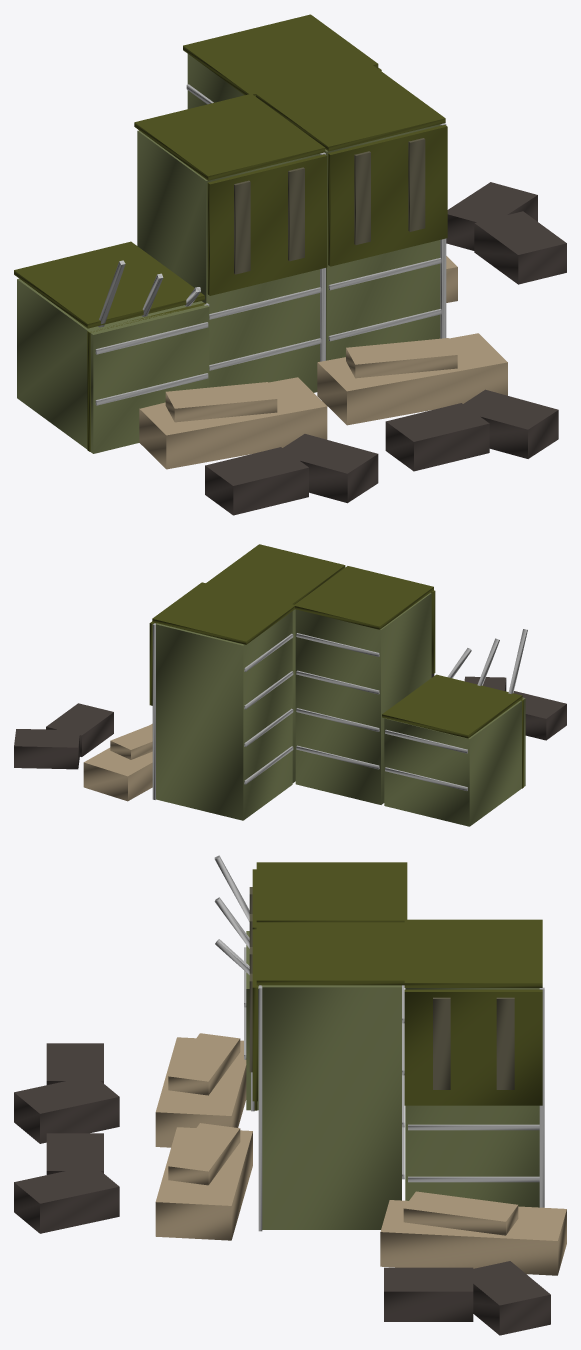
Rendered from SM_HescoRemateEspejo_v4_Red_e1_Danado_LOD0.fbx.
The picture shows the model from 3 angles, top to bottom: view 1: azimuth 30°, elevation 25°; view 2: azimuth 150°, elevation 25°; view 3: azimuth 270°, elevation 25°; orthographic projection. The views are drawn at different scales.
Visible parts, largest first — view 1: SM_hesco_piezas_v37_LOD0; view 2: SM_hesco_piezas_v37_LOD0; view 3: SM_hesco_piezas_v37_LOD0.
Part boxes in pixels (x1=…): SM_hesco_piezas_v37_LOD0: x1=14, y1=14, x2=566, y2=515; SM_hesco_piezas_v37_LOD0: x1=14, y1=544, x2=566, y2=826; SM_hesco_piezas_v37_LOD0: x1=14, y1=855, x2=566, y2=1335.
Size of the model in its own units: 5.25 by 2.16 by 4.33.
